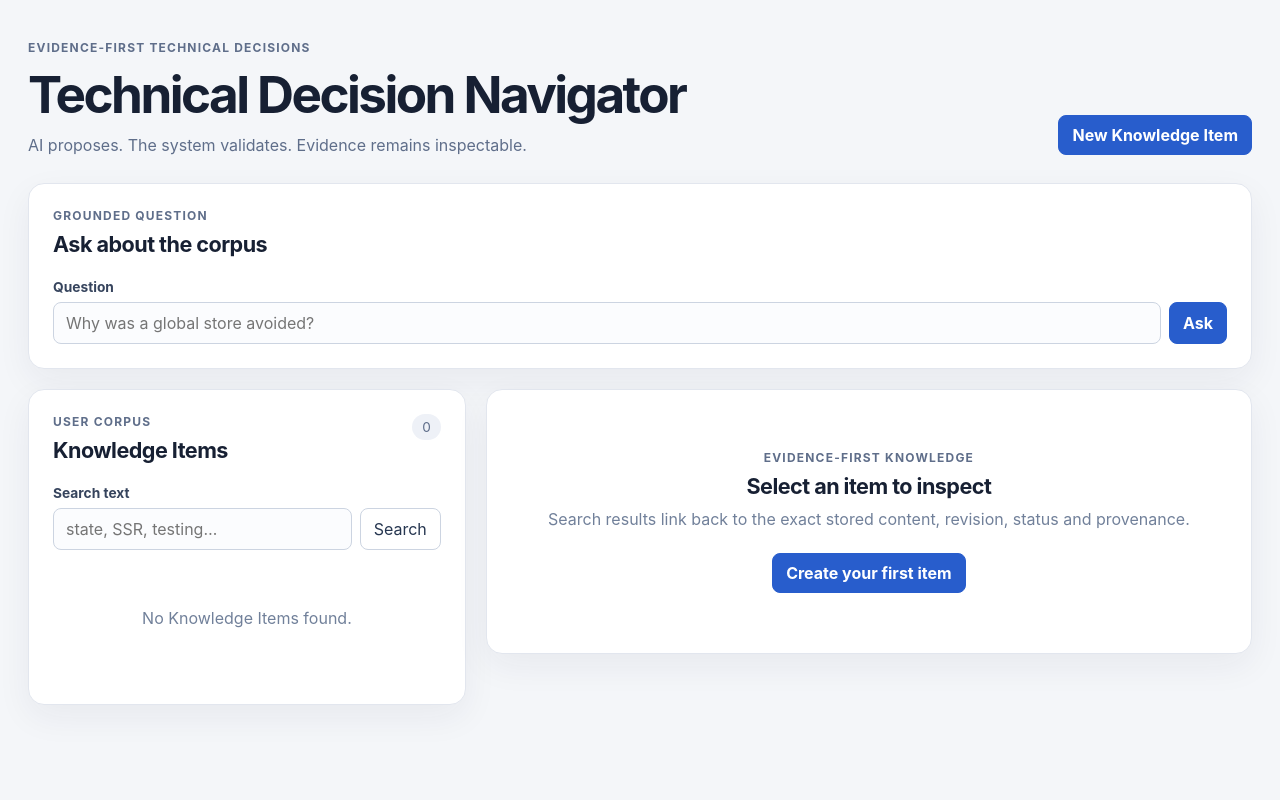
Slice B question surface › shows controlled AI unavailability without hiding search
Expected: the text "No Knowledge Items found." is shown, [142,608,352,628]
Type "state" into the field labelled "Question".
click(607, 323); type("state")  # box [53,302,1161,344]
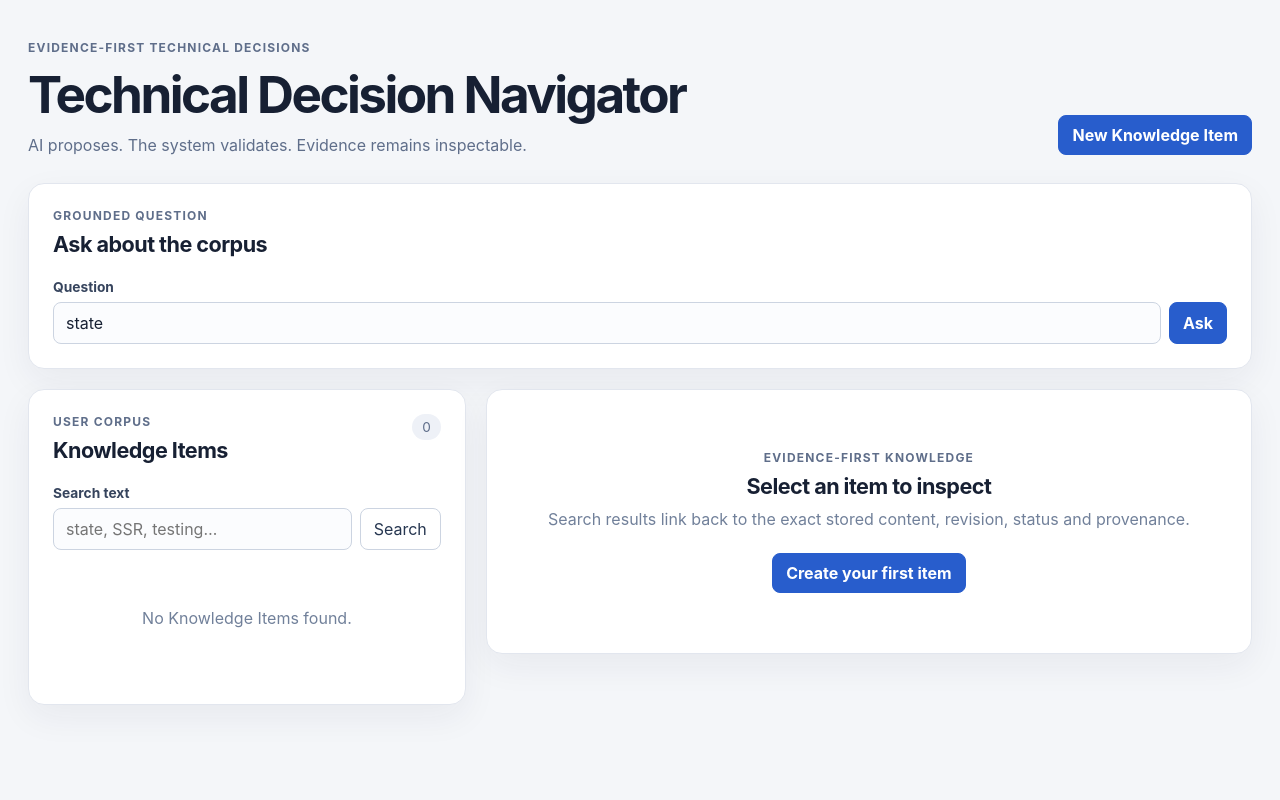
Click the button "Ask".
click(1198, 323)  # box [1169,302,1227,344]
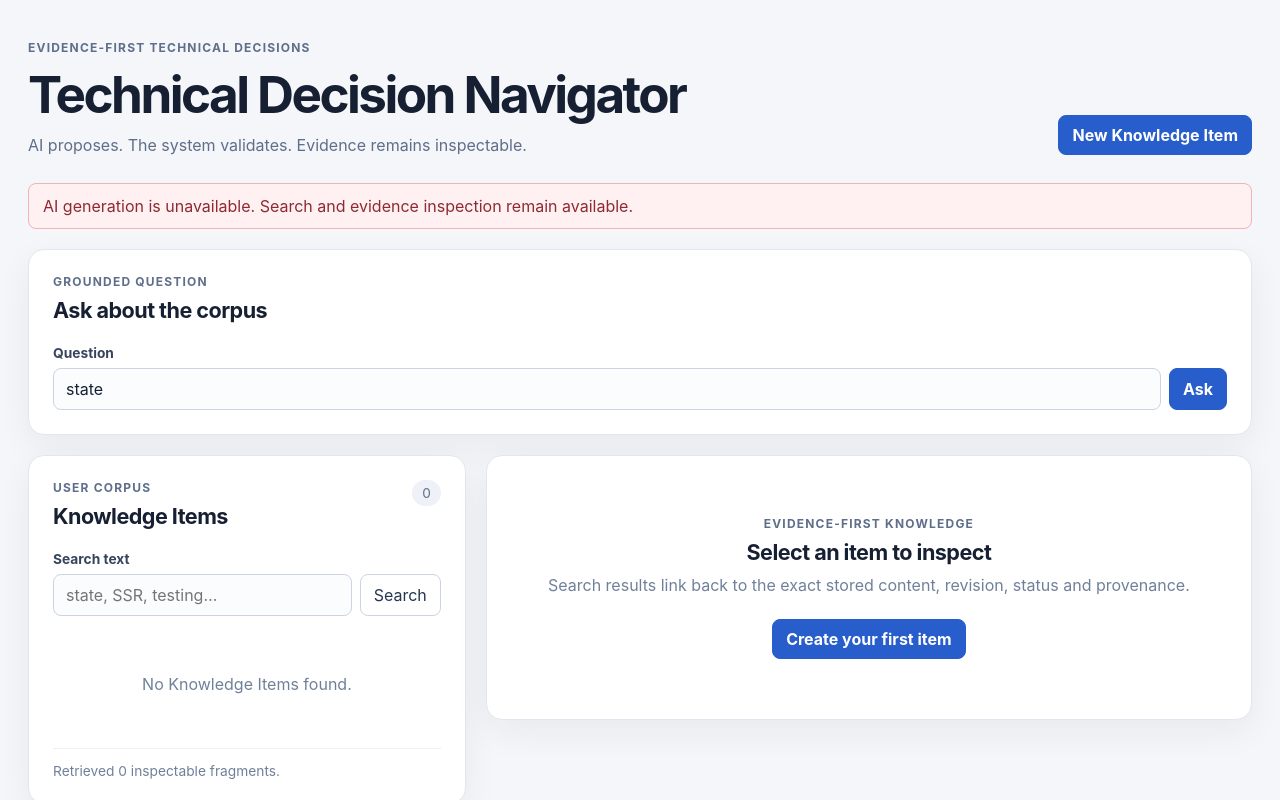
Expected: the heading "Knowledge Items" is shown, [53,503,228,529]
Expected: the message shows "AI generation is unavailable", [43,196,633,216]
